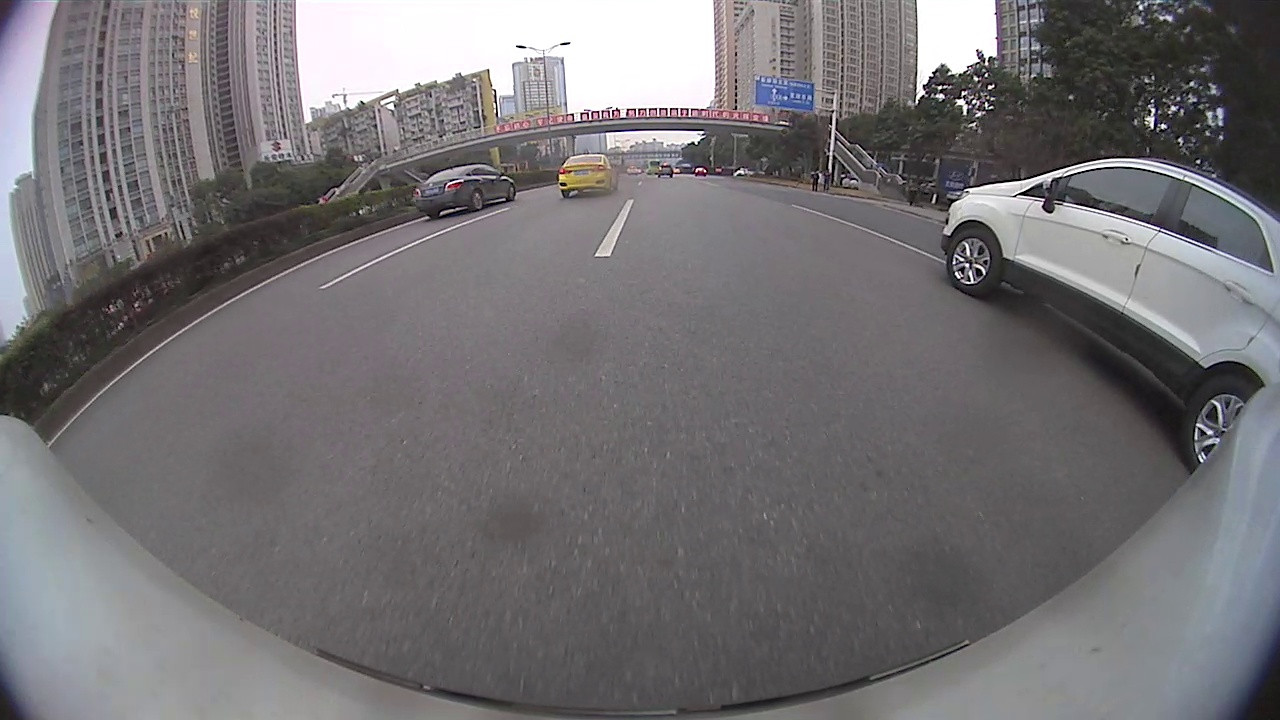car: (942, 157, 1279, 469), (411, 161, 518, 219), (557, 151, 620, 197), (658, 163, 674, 177)
front: (941, 228, 1000, 296)
person: (811, 169, 819, 190), (823, 170, 829, 192)
rear: (1181, 372, 1269, 477), (470, 192, 485, 213)
